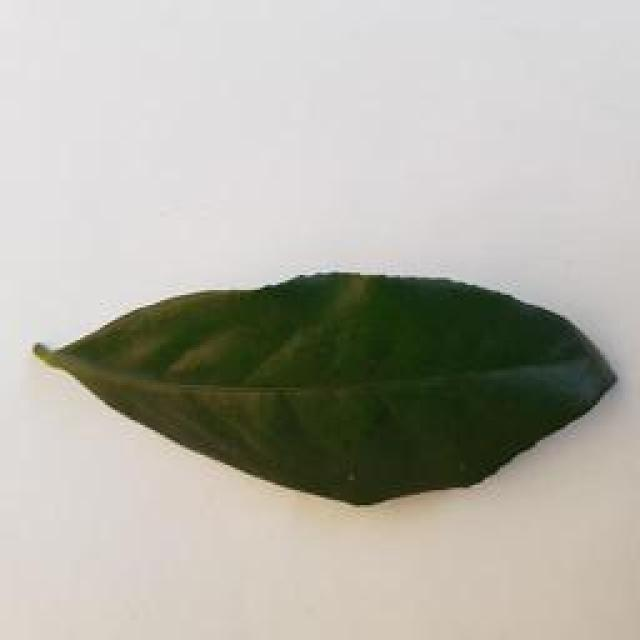Healthy: (24, 266, 632, 506)
